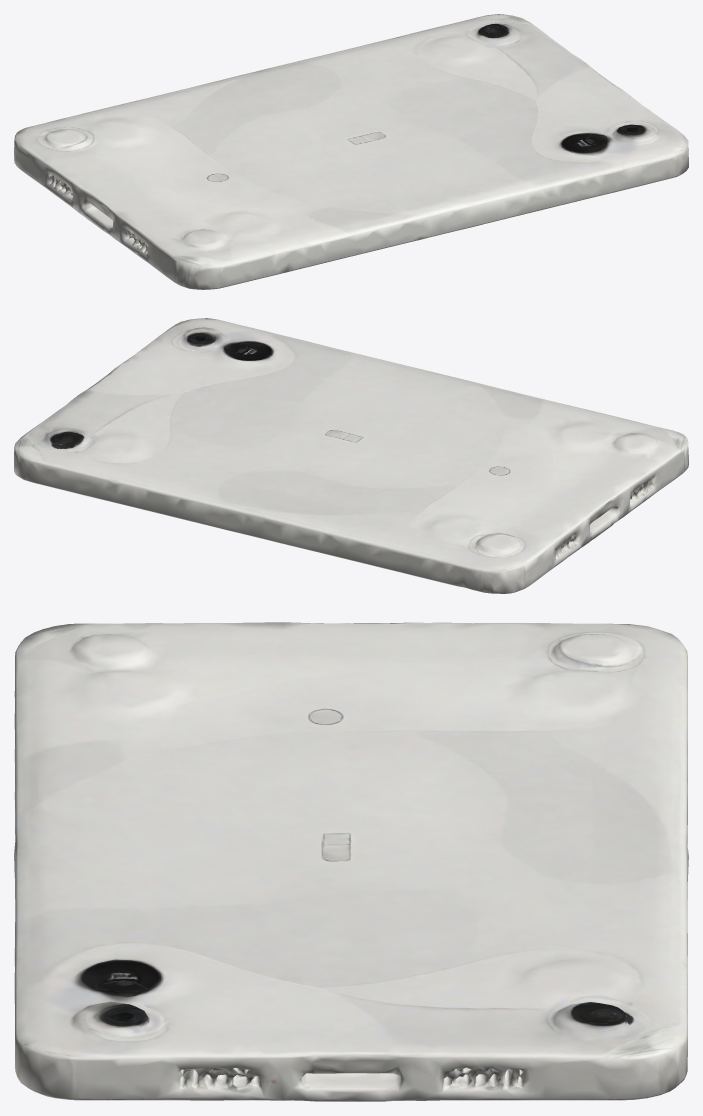
The model's file is Smartphone_Display_0525182508_texture.glb.
3 renders of one model, top to bottom at view 1: azimuth 30°, elevation 25°; view 2: azimuth 150°, elevation 25°; view 3: azimuth 270°, elevation 25°, orthographic. The views are drawn at different scales.
Size of the model in its own units: 2 by 0.1222 by 1.31.
1 material, 1 textured.
